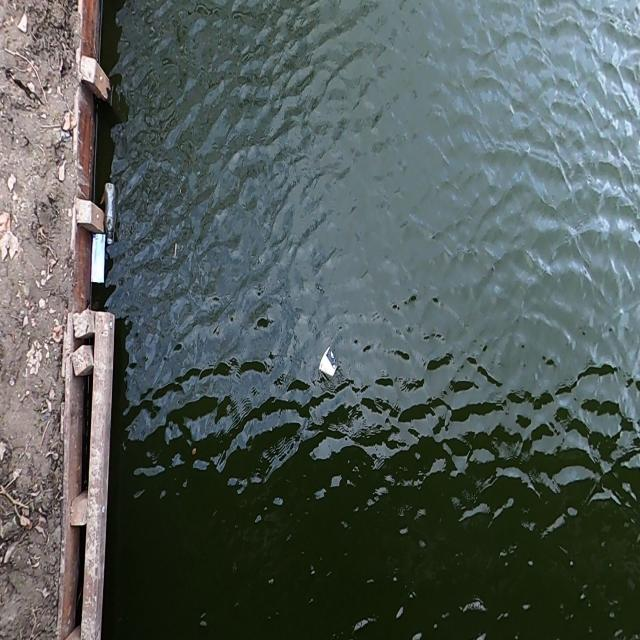Bouteille plastique: (104, 179, 117, 246)
Non plastique: (316, 342, 340, 381)
